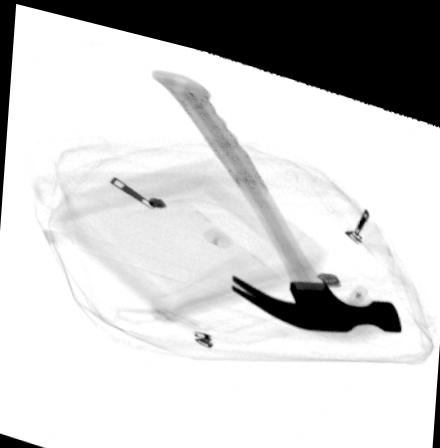Hammer: (146, 58, 403, 315)
